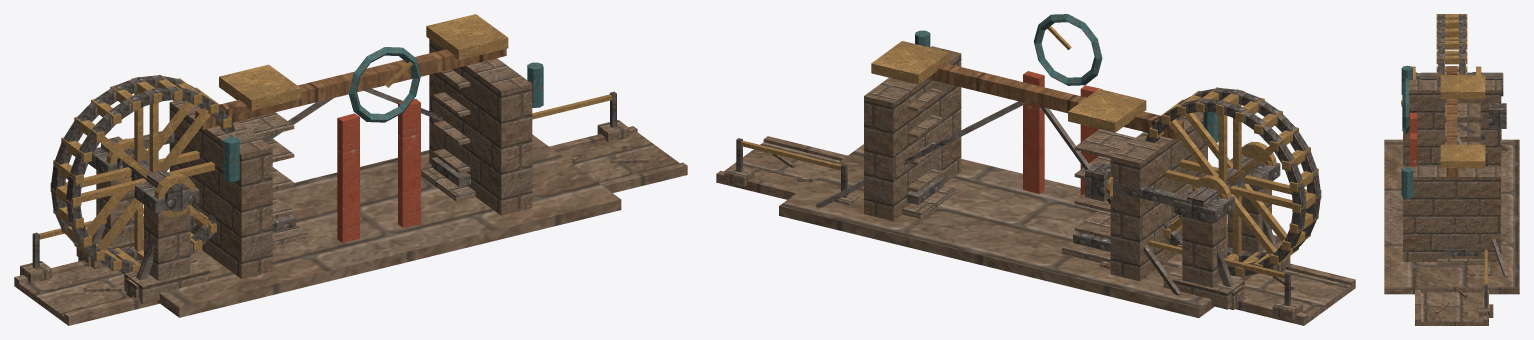
Rendered from canal-gate-works.glb.
The picture shows the model from 3 angles, left to right: view 1: azimuth 30°, elevation 25°; view 2: azimuth 150°, elevation 25°; view 3: azimuth 270°, elevation 25°; orthographic projection. The views are drawn at different scales.
Parts seen in each view (by area): view 1: canal-gate-works; view 2: canal-gate-works; view 3: canal-gate-works.
Part boxes in pixels (x1=…): canal-gate-works: x1=14, y1=14, x2=687, y2=325; canal-gate-works: x1=716, y1=14, x2=1355, y2=325; canal-gate-works: x1=1384, y1=14, x2=1519, y2=325.
Size of the model in its own units: 11.2 by 3.61 by 3.1.
1 material, 1 textured.
